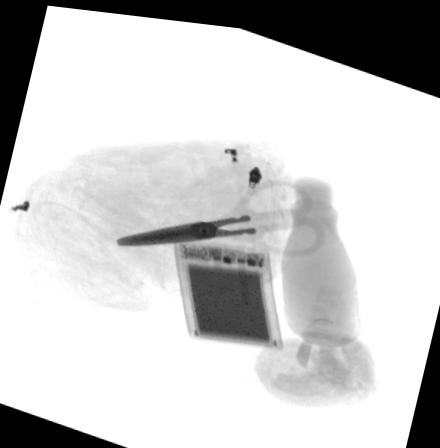Powerbank: (169, 233, 281, 340)
Scissors: (115, 170, 327, 249)
